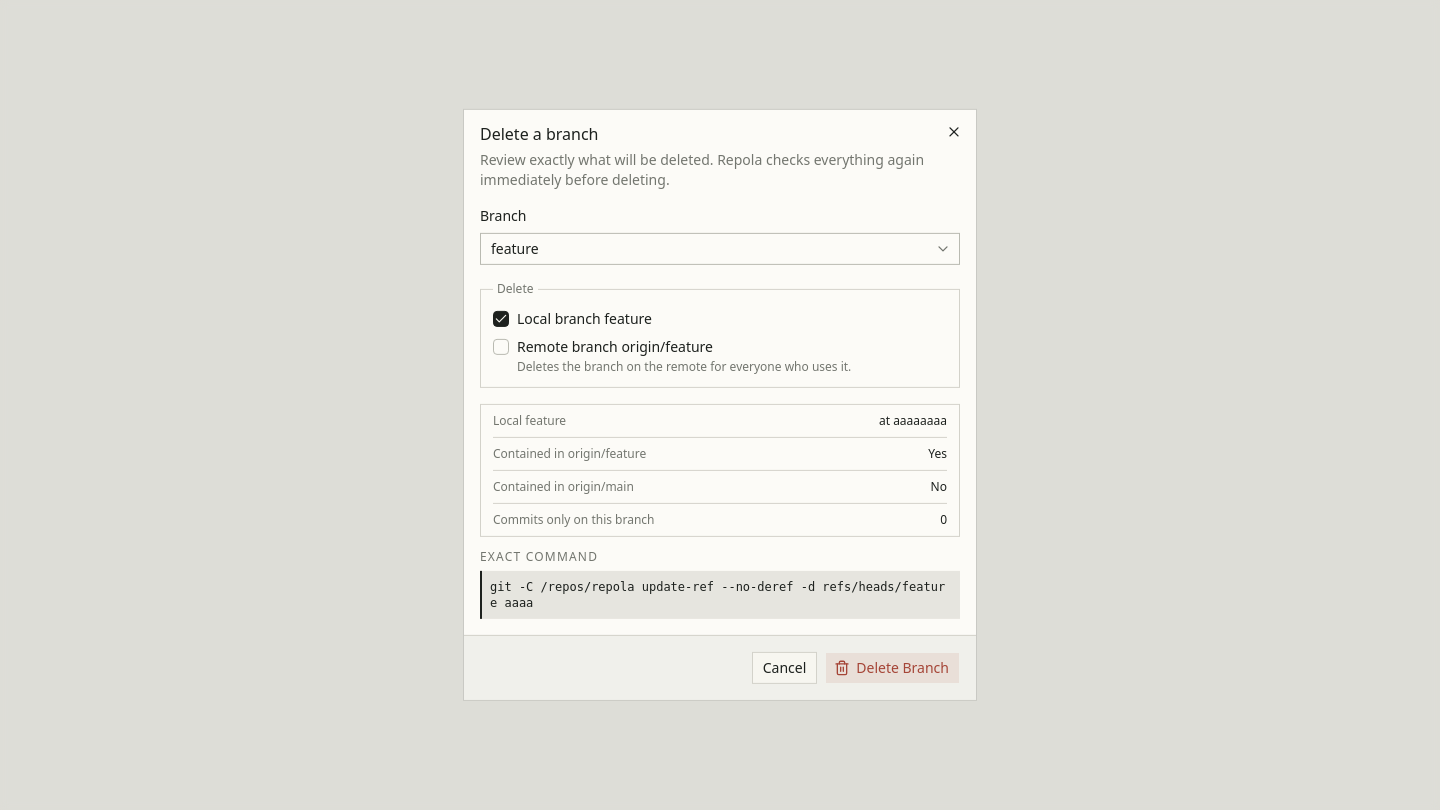
it: DeleteBranchDialog › does not claim there are no open pull requests when the provider has more than it listed
Expected: the text "update-ref --no-deref -d refs/heads/feature" is shown, [490,580,945,610]
Click the checkbox named "Remote branch origin/feature" next to "Remote branch origin/feature".
click(501, 347)  # box [493,339,509,355]
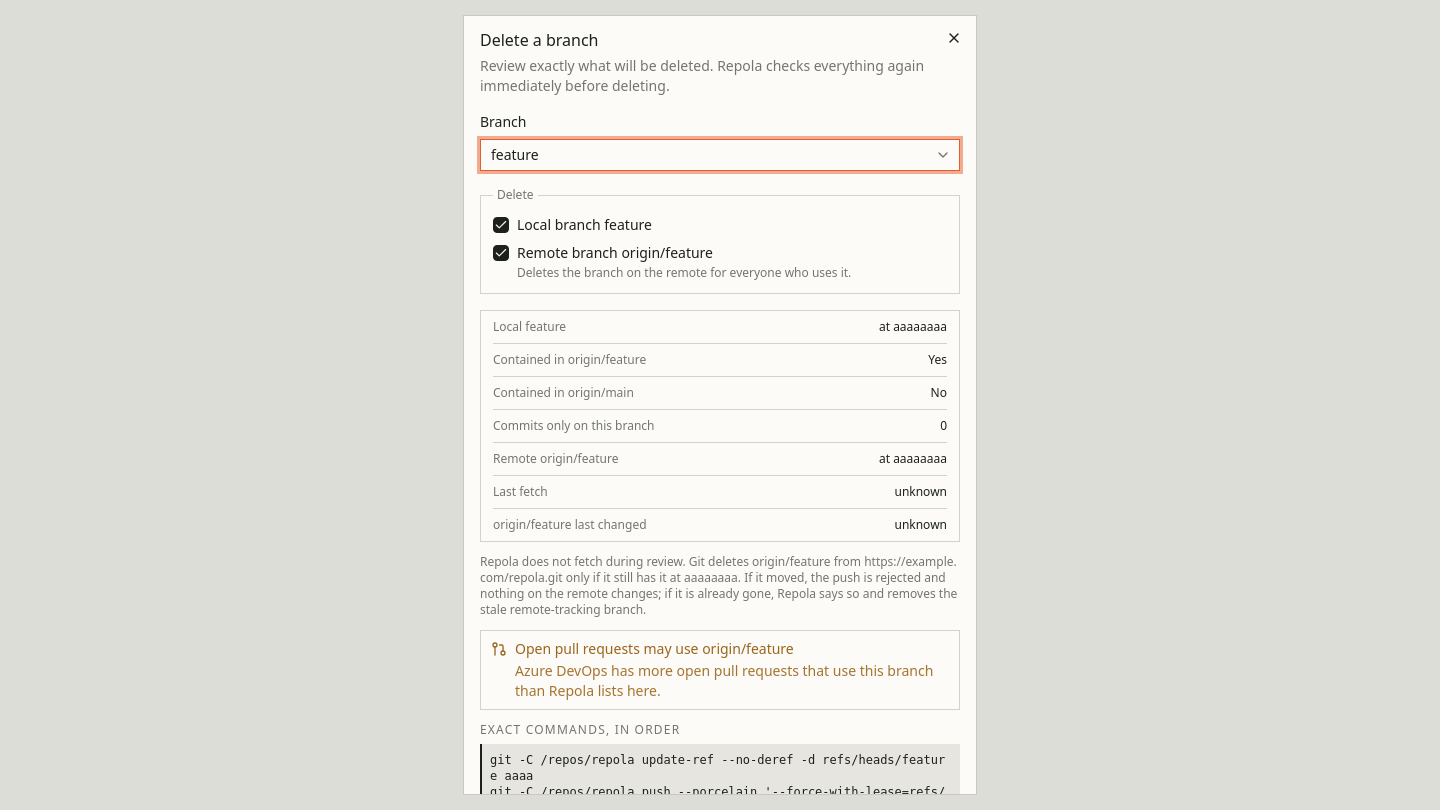
Now the text "Open pull requests may use origin/feature" is shown, box [515,639,794,658]
